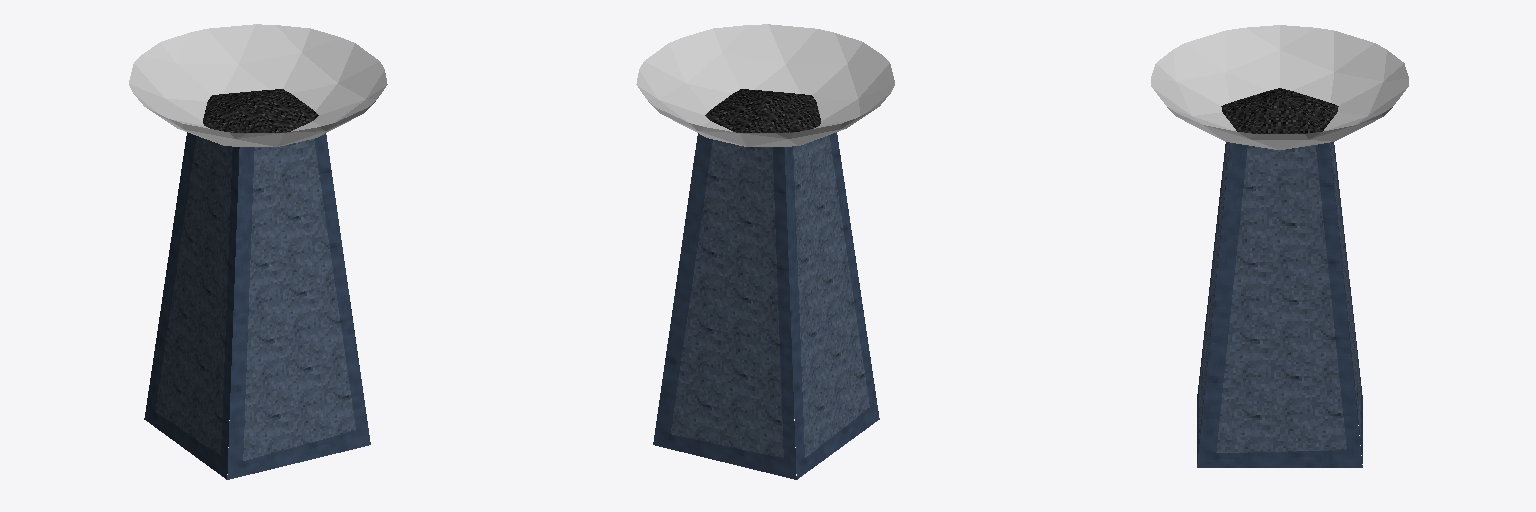
3 views of the same model, side by side, from view 1: azimuth 30°, elevation 25°; view 2: azimuth 150°, elevation 25°; view 3: azimuth 270°, elevation 25° (orthographic).
Parts seen in each view (by area): view 1: Base.001_Plane.001, Plate_Icosphere.001, Plate.001_Icosphere.002; view 2: Base.001_Plane.001, Plate_Icosphere.001, Plate.001_Icosphere.002; view 3: Base.001_Plane.001, Plate_Icosphere.001, Plate.001_Icosphere.002.
Boxes of the visible parts, <box> form: Base.001_Plane.001: <box>144,132,370,479</box>; Plate_Icosphere.001: <box>129,24,387,146</box>; Plate.001_Icosphere.002: <box>203,89,318,132</box>; Base.001_Plane.001: <box>653,132,879,479</box>; Plate_Icosphere.001: <box>636,24,894,146</box>; Plate.001_Icosphere.002: <box>705,89,820,132</box>; Base.001_Plane.001: <box>1197,142,1362,467</box>; Plate_Icosphere.001: <box>1151,25,1408,149</box>; Plate.001_Icosphere.002: <box>1221,88,1338,133</box>.
Bounding box in the file's own units: 1.46 × 2.2 × 1.46.
Materials: 4 (3 with a texture image).